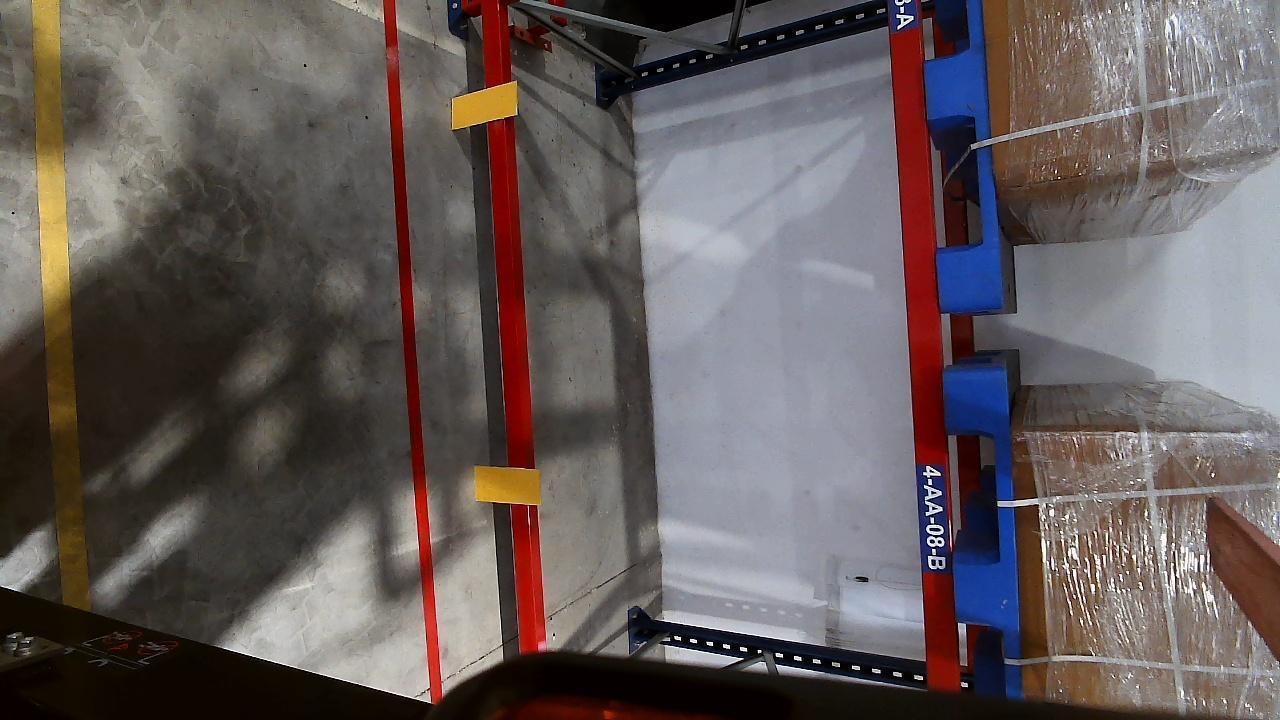red_line: (376, 0, 446, 688)
yellow_line: (21, 0, 97, 608)
